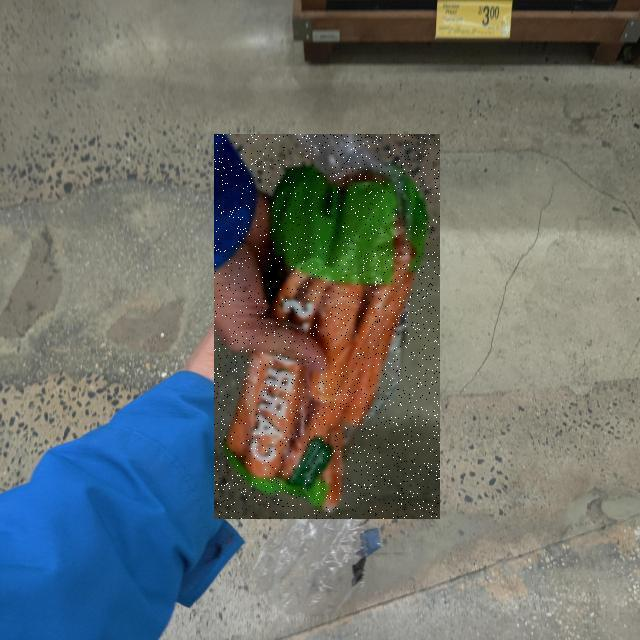carrot: (0, 260, 434, 640)
